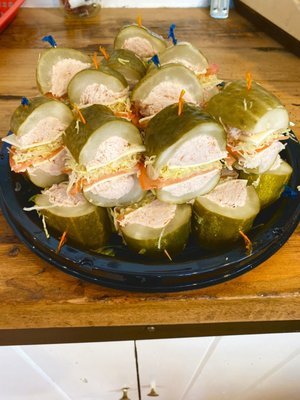sushi: (0, 8, 299, 295)
